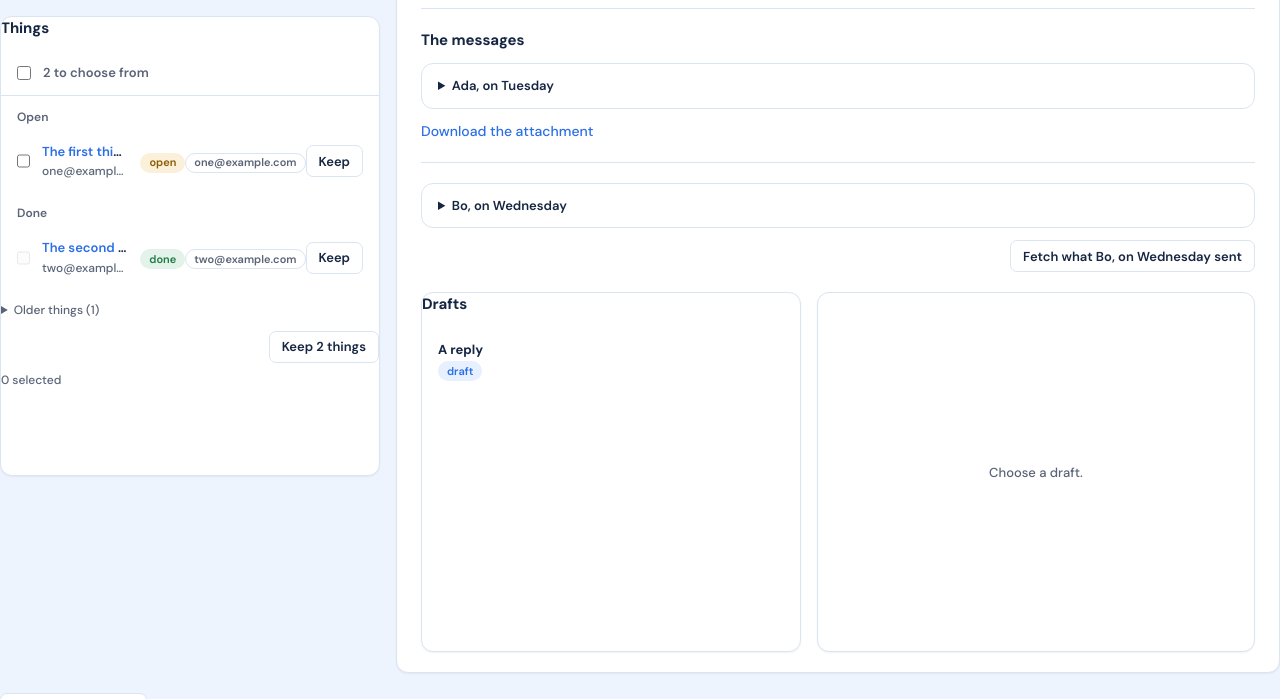
Scenario: the pieces a descriptor is made of › says what a gated write did, out of what the approval executed
(page scrolled)
Click the link "A reply draft".
click(461, 361)  # box [438,341,483,382]
(page scrolled)
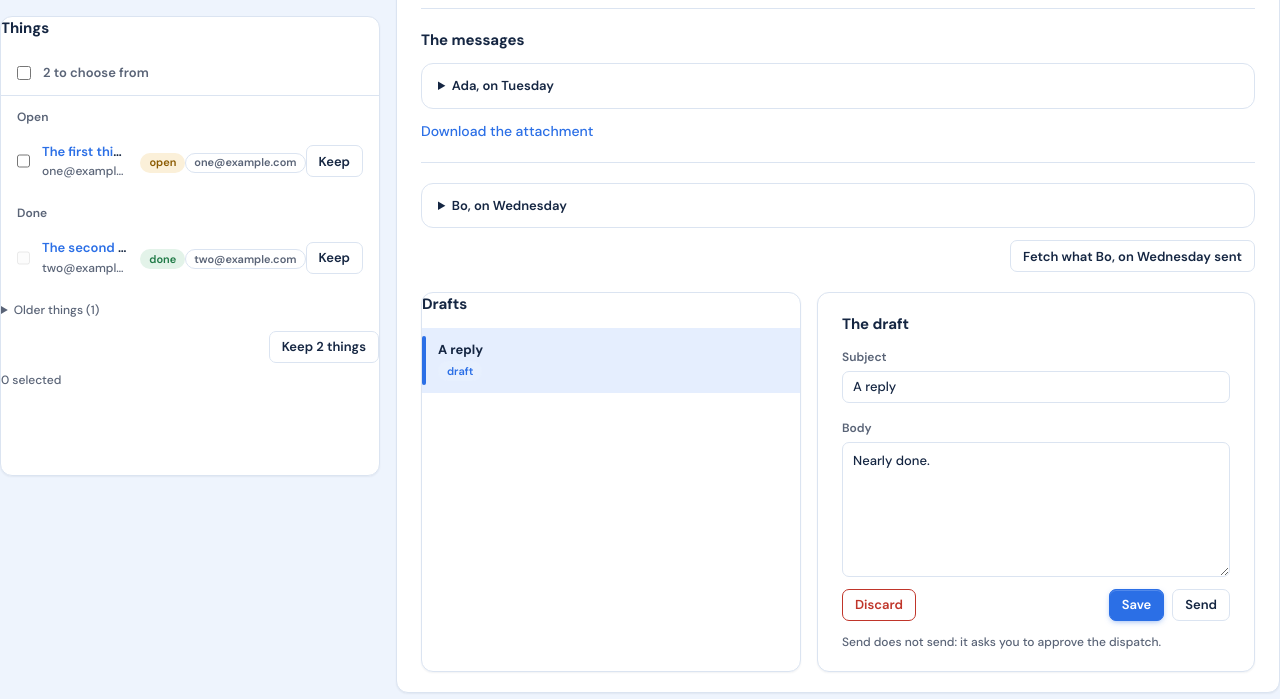
Click the button "Send".
click(1201, 605)  # box [1172,589,1230,621]
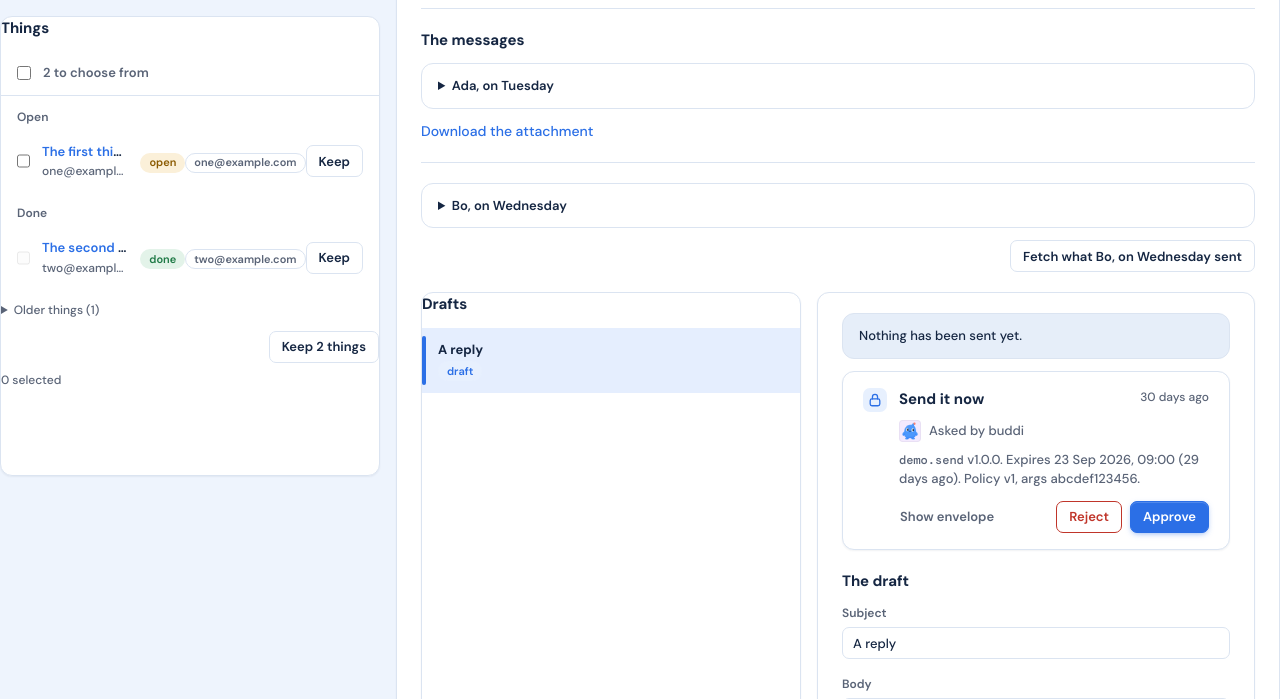
Click the button "Approve".
click(1170, 517)  # box [1130,501,1209,533]
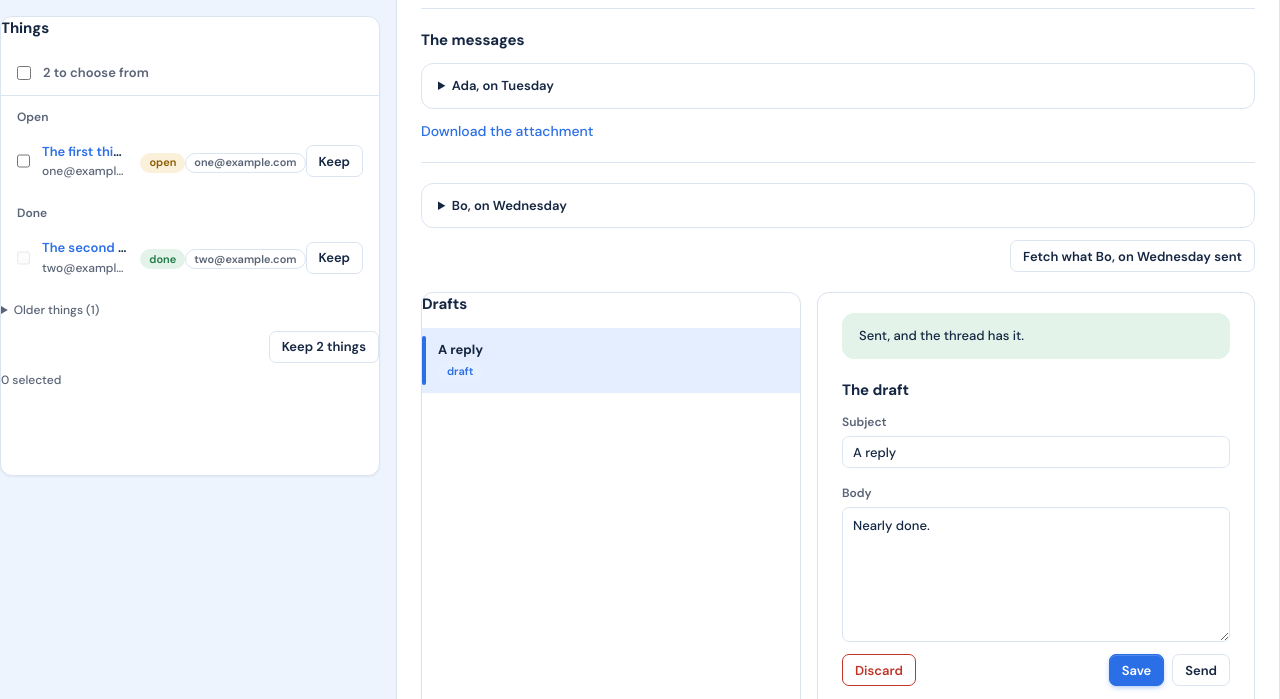
Expected: the text "Sent, and the thread has it." is shown, [842,314,1230,359]
